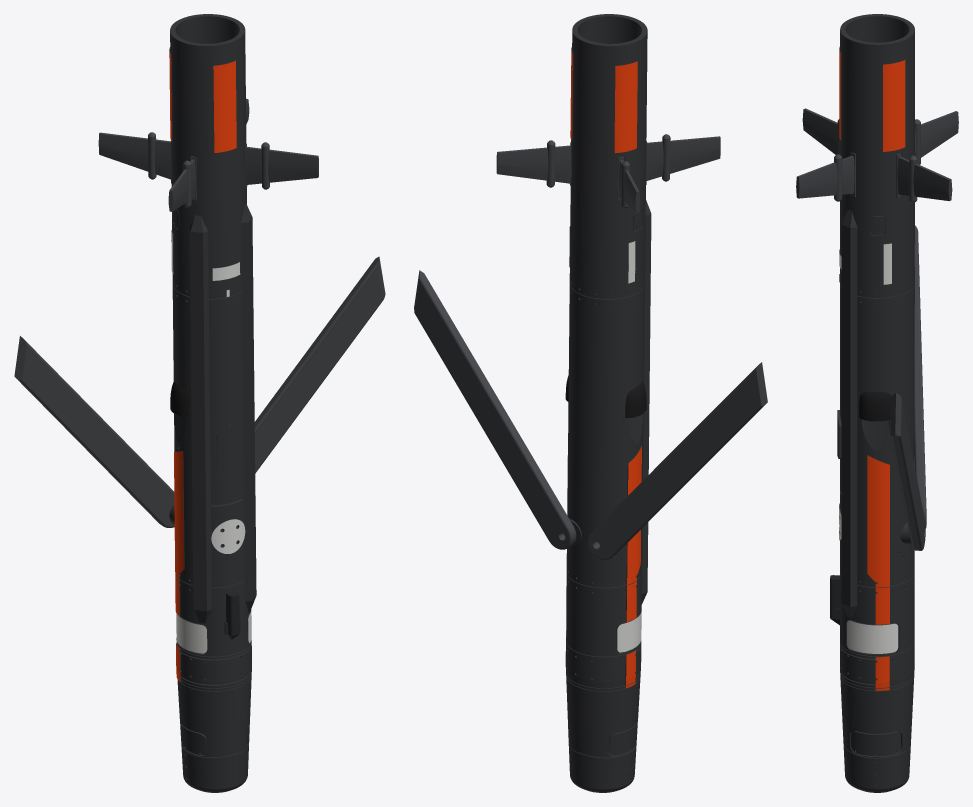
3 renders of one model, left to right at view 1: azimuth 30°, elevation 25°; view 2: azimuth 150°, elevation 25°; view 3: azimuth 270°, elevation 25°, orthographic.
Parts seen in each view (by area): view 1: Part 1.045, Part 1.046, Part 2.013, Part 1.041, Part 1.042, Part 1.043; view 2: Part 1.045, Part 2.013, Part 1.046, Part 1.044, Part 1.043, Part 1.042; view 3: Part 1.045, Part 2.013, Part 1.046, Part 1.041, Part 1.044, Part 1.042, Part 1.043.
Boxes of the visible parts, box(x1,y1,x2,y2) form: Part 1.045: box(169, 14, 256, 792); Part 1.046: box(14, 336, 174, 527); Part 2.013: box(254, 256, 385, 473); Part 1.041: box(245, 142, 318, 189); Part 1.042: box(98, 132, 171, 183); Part 1.043: box(168, 156, 196, 211); Part 1.045: box(565, 14, 651, 792); Part 2.013: box(414, 270, 576, 549); Part 1.046: box(587, 362, 767, 560); Part 1.044: box(496, 140, 571, 187); Part 1.043: box(646, 134, 720, 184); Part 1.042: box(617, 156, 640, 212); Part 1.045: box(830, 14, 914, 792); Part 2.013: box(890, 393, 925, 550); Part 1.046: box(914, 225, 926, 528); Part 1.041: box(796, 152, 855, 201); Part 1.044: box(896, 153, 952, 202); Part 1.042: box(915, 111, 958, 164); Part 1.043: box(802, 108, 839, 154).
Size of the model in its own units: 0.0653 by 0.1309 by 0.0255.
